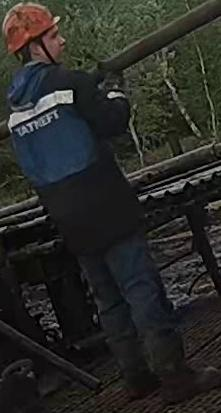gloves: (96, 58, 129, 98)
helmet: (1, 1, 60, 55)
vest: (6, 61, 118, 233)
